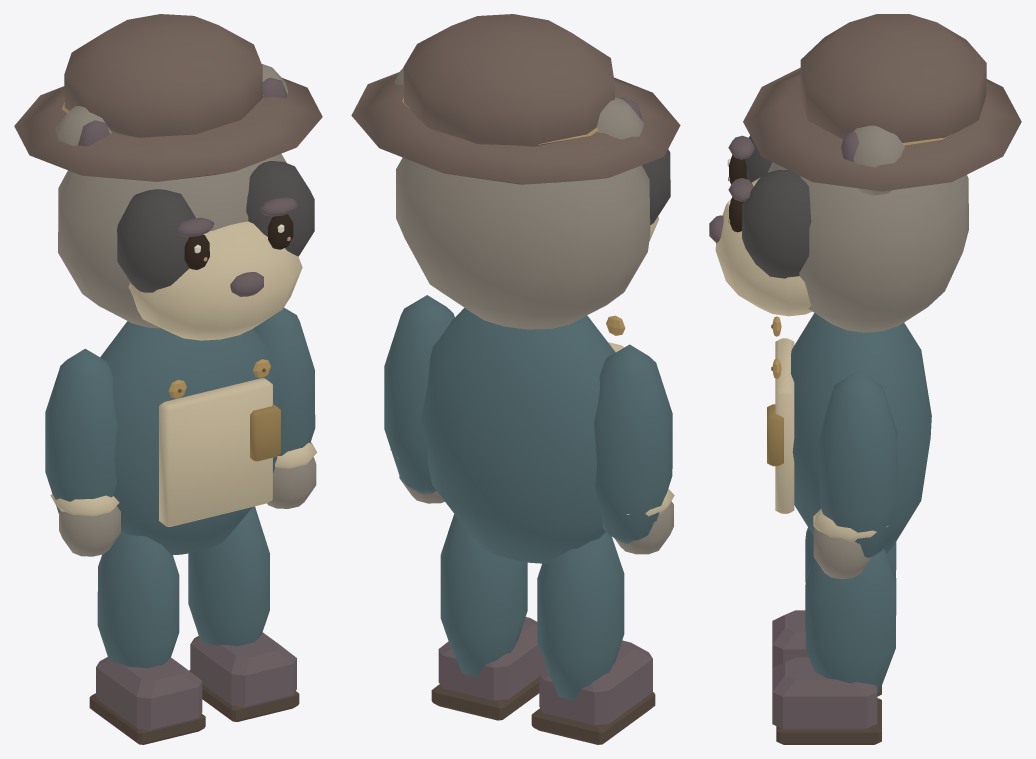
The model's file is npc_sanna.glb.
The picture shows the model from 3 angles, left to right: view 1: azimuth 30°, elevation 25°; view 2: azimuth 150°, elevation 25°; view 3: azimuth 270°, elevation 25°; orthographic projection. The views are drawn at different scales.
Visible parts, largest first — view 1: npc_sanna, npc_sanna_leg_l, npc_sanna_leg_r, npc_sanna_arm_l, npc_sanna_arm_r, npc_sanna_r_eye, npc_sanna_l_eye; view 2: npc_sanna, npc_sanna_leg_l, npc_sanna_leg_r, npc_sanna_arm_l, npc_sanna_arm_r; view 3: npc_sanna, npc_sanna_leg_r, npc_sanna_arm_r, npc_sanna_leg_l.
Boxes of the visible parts, x1,y1,x2,y2 form: npc_sanna: (14, 14, 322, 554); npc_sanna_leg_l: (89, 532, 205, 744); npc_sanna_leg_r: (188, 506, 299, 721); npc_sanna_arm_l: (45, 348, 120, 556); npc_sanna_arm_r: (254, 307, 316, 508); npc_sanna_r_eye: (268, 214, 293, 249); npc_sanna_l_eye: (184, 234, 209, 269); npc_sanna: (351, 14, 680, 563); npc_sanna_leg_l: (531, 532, 655, 744); npc_sanna_leg_r: (431, 514, 545, 720); npc_sanna_arm_l: (594, 344, 674, 554); npc_sanna_arm_r: (384, 295, 454, 503); npc_sanna: (709, 14, 1021, 553); npc_sanna_leg_r: (772, 549, 896, 744); npc_sanna_arm_r: (813, 370, 897, 579); npc_sanna_leg_l: (772, 527, 896, 696).
Size of the model in its own units: 0.7 by 1.58 by 0.6637.
